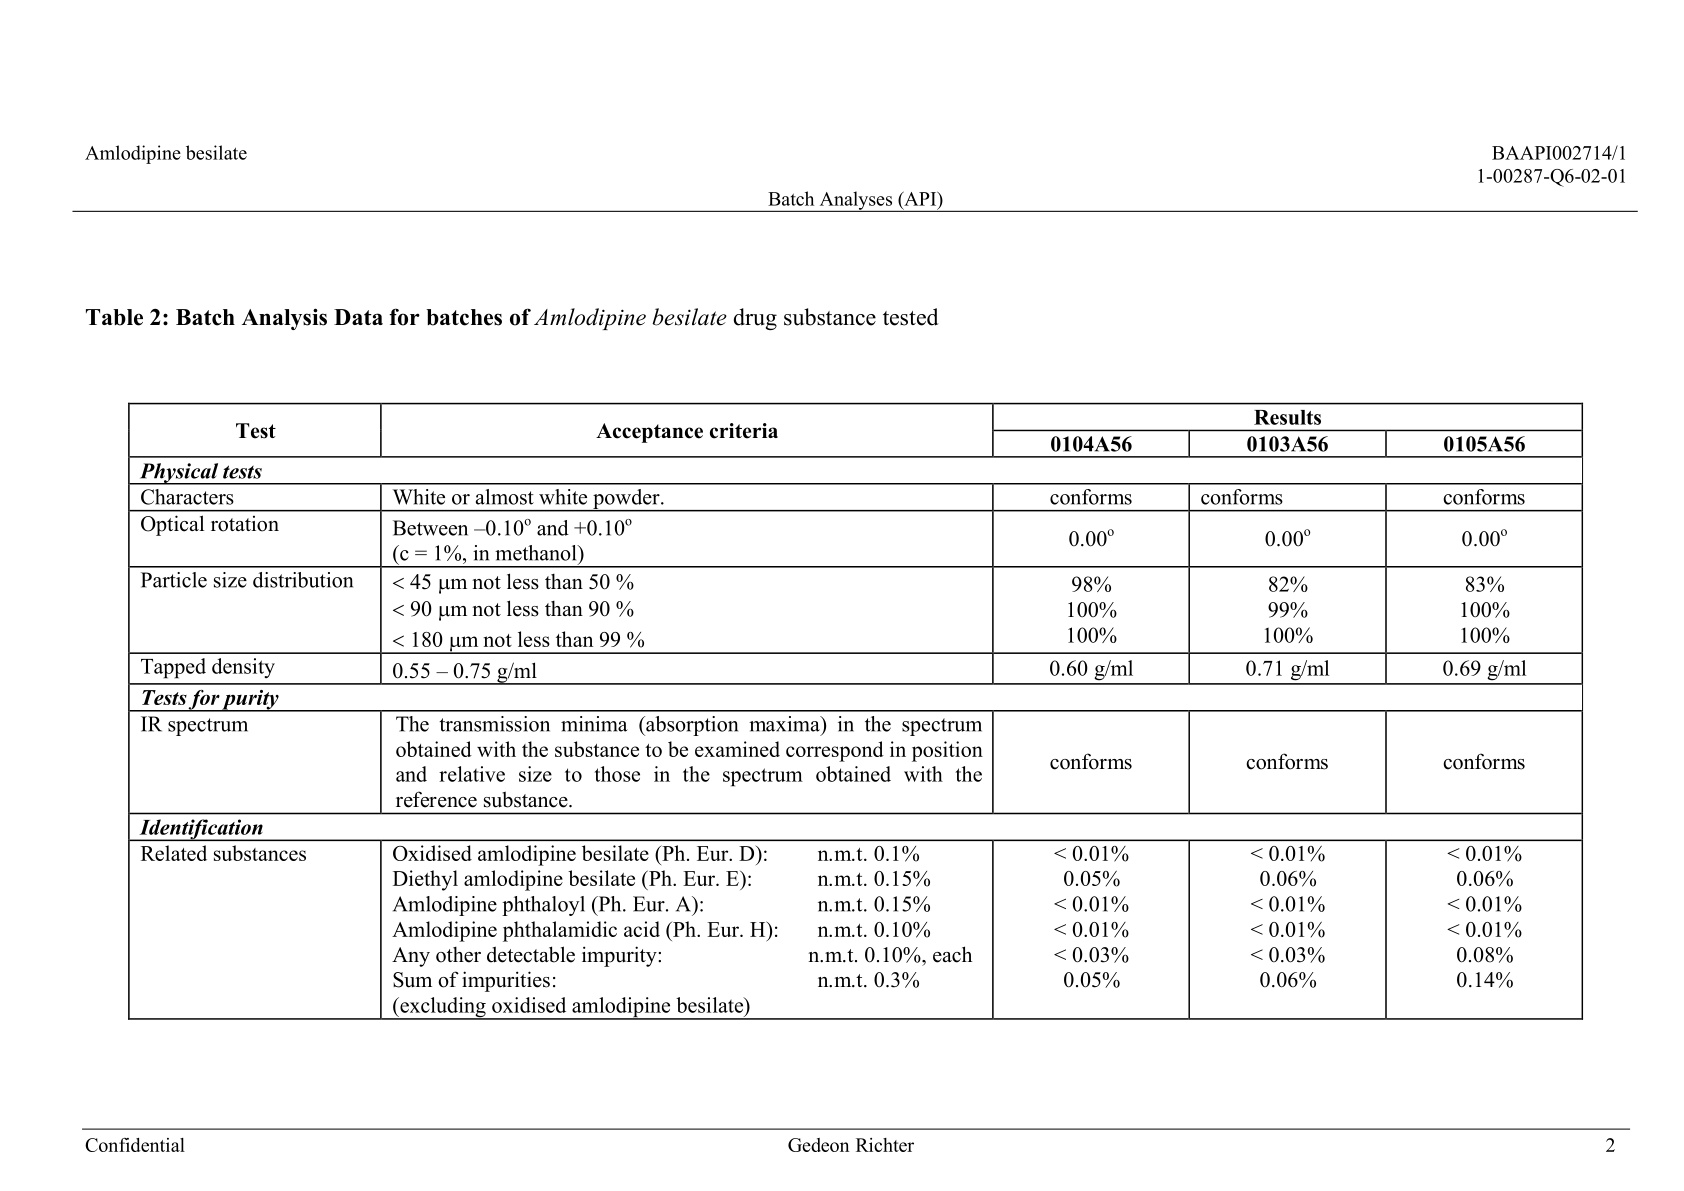merged_cells: (128, 402, 1584, 1020)
